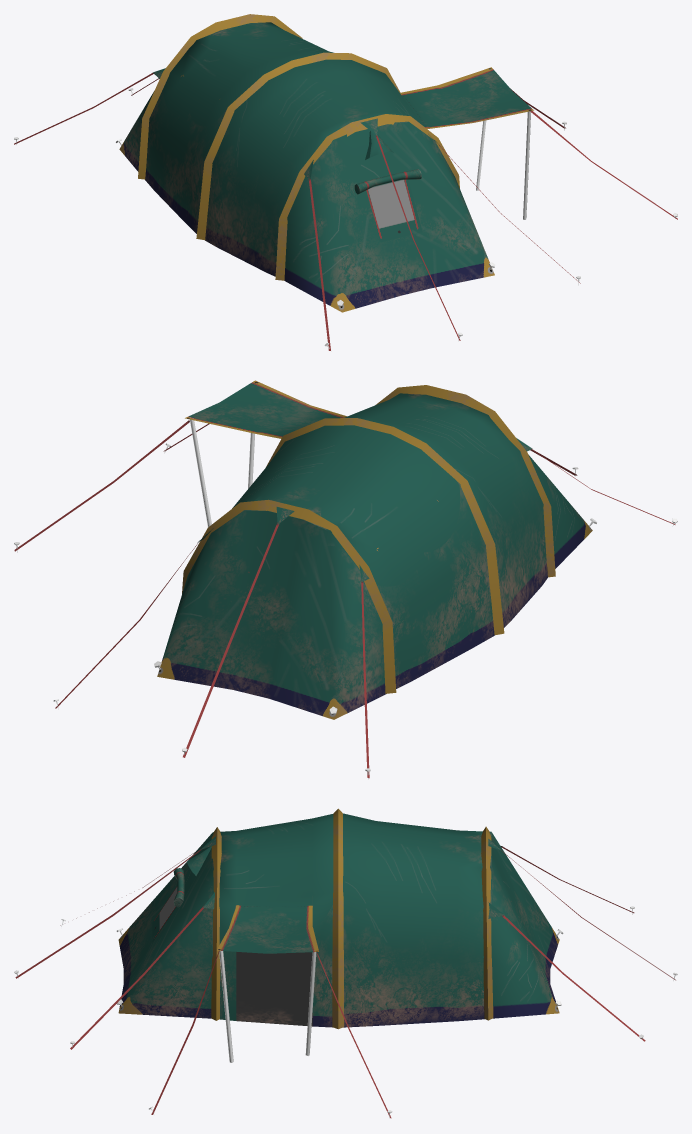
Rendered from tent.obj.
3 renders of one model, top to bottom at view 1: azimuth 30°, elevation 25°; view 2: azimuth 150°, elevation 25°; view 3: azimuth 270°, elevation 25°, orthographic. The views are drawn at different scales.
Parts seen in each view (by area): view 1: polySurface10_Mesh, polySurface3_Mesh.002, pCube7_Mesh.013, polySurface4_Mesh.003, polySurface5_Mesh.004, pCylinder1_Mesh.005, pCylinder5_Mesh.018; view 2: polySurface10_Mesh, polySurface5_Mesh.004, polySurface3_Mesh.002, polySurface4_Mesh.003, pCylinder8_Mesh.019, pCylinder10_Mesh.021, pCylinder11_Mesh.022; view 3: polySurface10_Mesh, polySurface3_Mesh.002, polySurface5_Mesh.004, polySurface4_Mesh.003, pCylinder11_Mesh.022, pCylinder8_Mesh.019, pCube3_Mesh.011, pCube7_Mesh.013, pCylinder9_Mesh.020, pCube8_Mesh.014, polySurface14_Mesh.017.
Part boxes in pixels (<box>): polySurface10_Mesh: <box>119,22,533,312</box>; polySurface3_Mesh.002: <box>196,52,400,240</box>; pCube7_Mesh.013: <box>366,179,422,242</box>; polySurface4_Mesh.003: <box>275,114,459,280</box>; polySurface5_Mesh.004: <box>138,14,302,179</box>; pCylinder1_Mesh.005: <box>354,169,421,194</box>; pCylinder5_Mesh.018: <box>308,179,330,350</box>; polySurface10_Mesh: <box>157,380,592,719</box>; polySurface5_Mesh.004: <box>182,499,396,693</box>; polySurface3_Mesh.002: <box>266,418,504,635</box>; polySurface4_Mesh.003: <box>376,385,555,577</box>; pCylinder8_Mesh.019: <box>53,542,370,778</box>; pCylinder10_Mesh.021: <box>182,522,279,757</box>; pCylinder11_Mesh.022: <box>14,382,256,552</box>; polySurface10_Mesh: <box>118,813,559,1027</box>; polySurface3_Mesh.002: <box>332,808,343,1029</box>; polySurface5_Mesh.004: <box>481,826,493,1020</box>; polySurface4_Mesh.003: <box>211,827,221,1020</box>; pCylinder11_Mesh.022: <box>149,949,392,1118</box>; pCylinder8_Mesh.019: <box>501,846,645,1041</box>; pCube3_Mesh.011: <box>219,950,233,1062</box>; pCube7_Mesh.013: <box>152,886,177,942</box>; pCylinder9_Mesh.020: <box>14,849,201,978</box>; pCube8_Mesh.014: <box>305,950,316,1055</box>; polySurface14_Mesh.017: <box>70,906,203,1049</box>.
Bounding box in the file's own units: 0.0366 × 0.0134 × 0.0494.
Materials: 1 (1 with a texture image).
